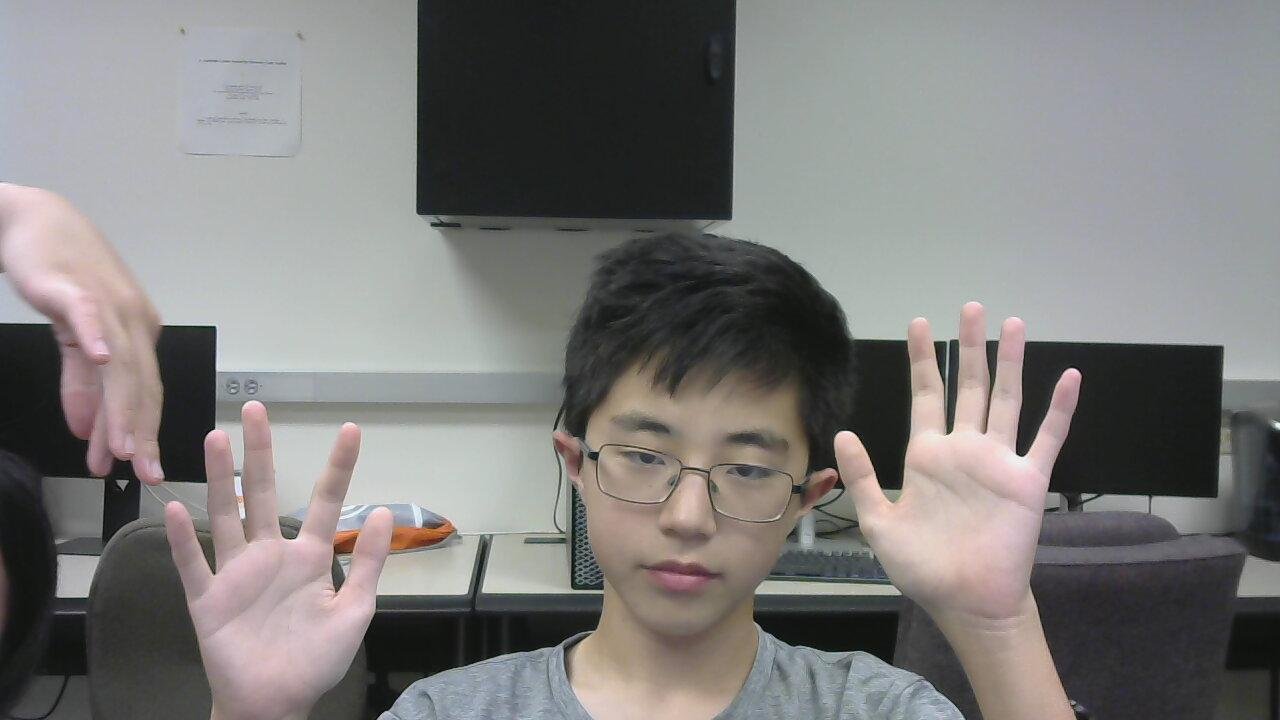hands: (833, 297, 1087, 612), (149, 375, 388, 702), (0, 178, 183, 496)
